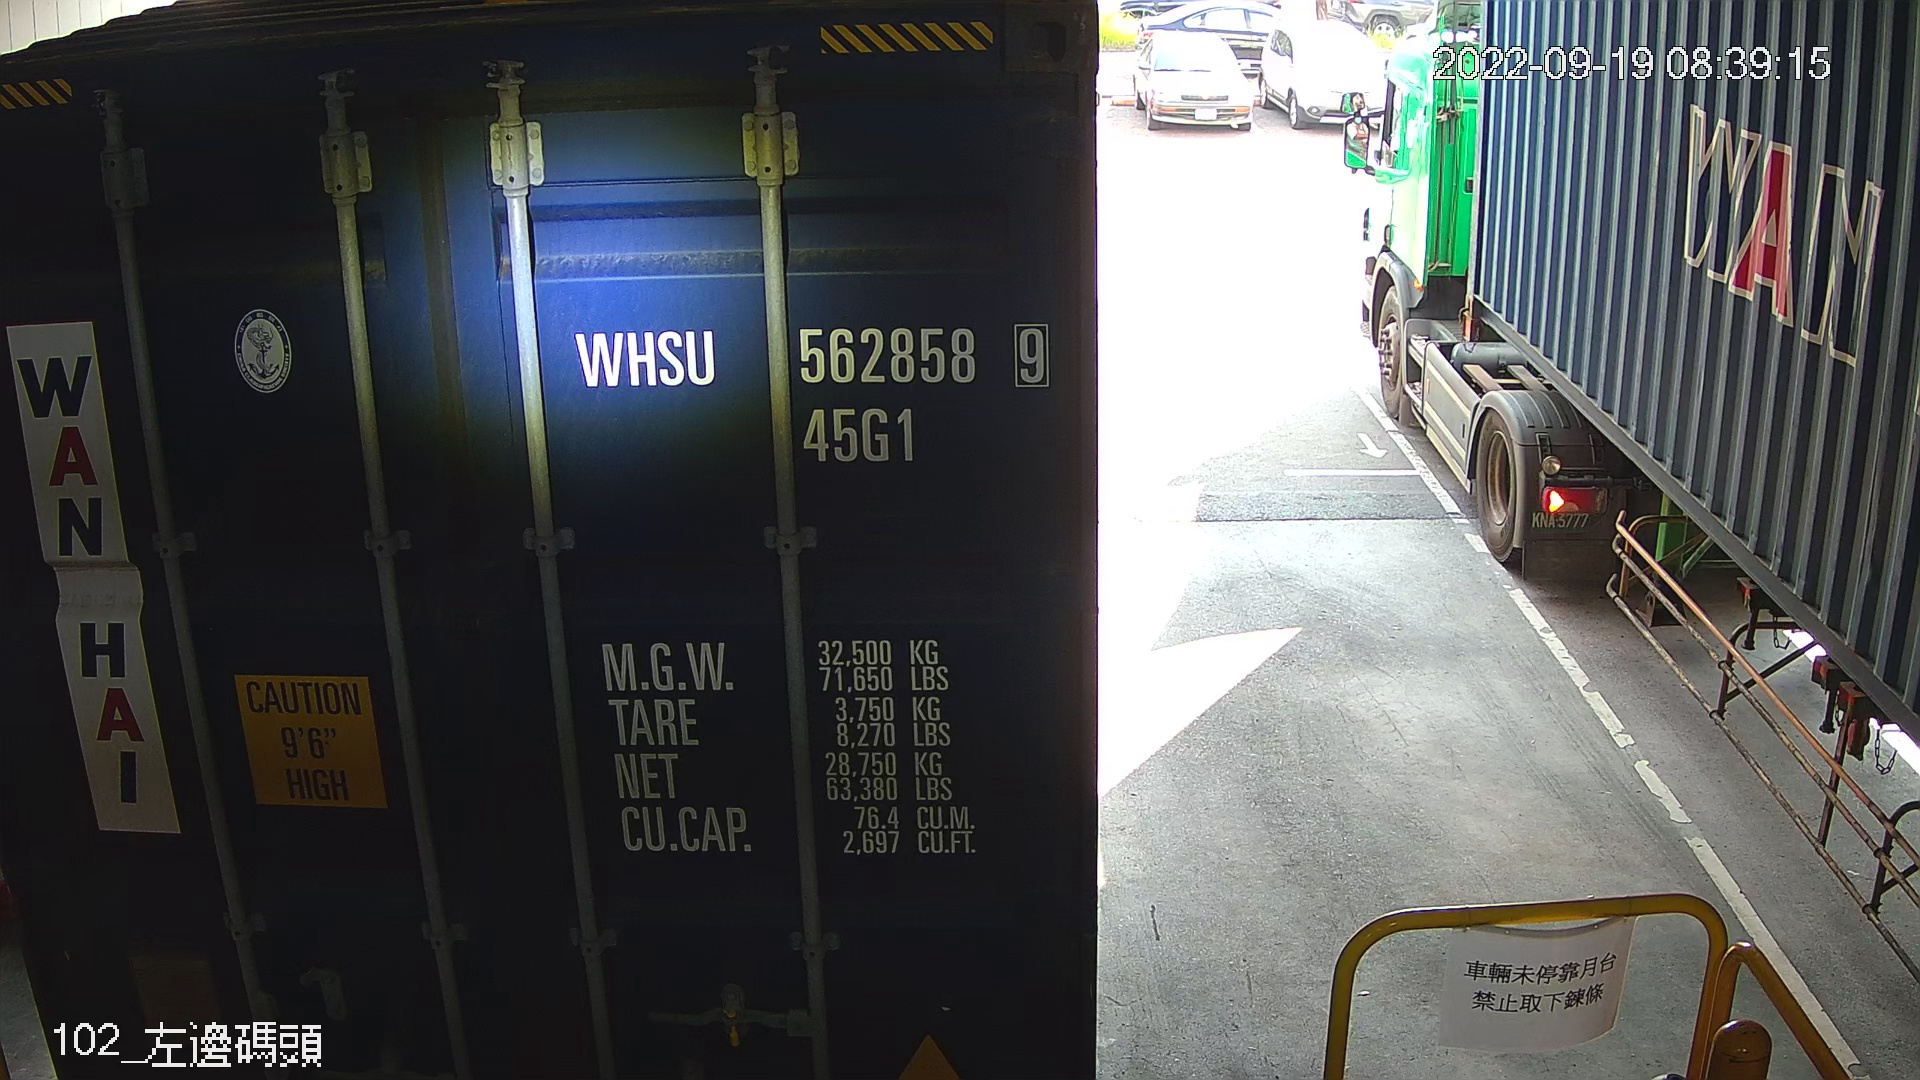container: (562, 311, 1059, 476)
